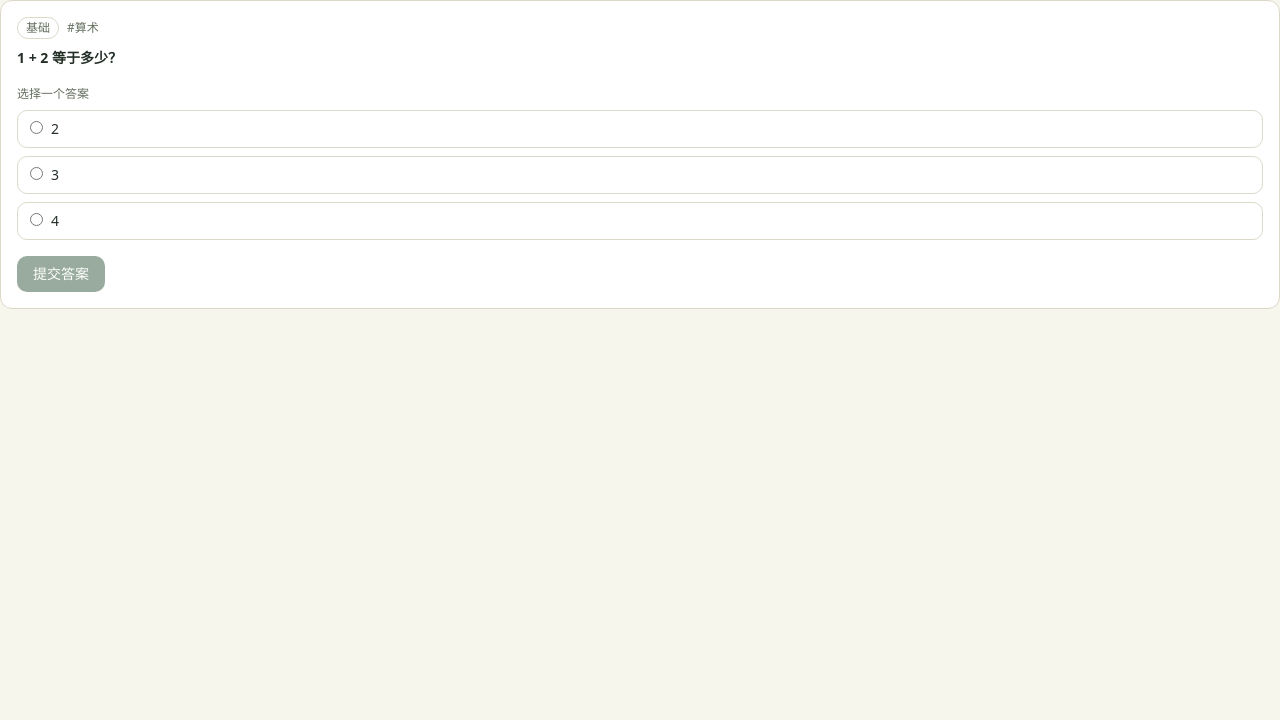
Test: ExerciseAssessment › renders strict single-choice remediation after an incorrect result
Click the radio button labelled "3" at (36, 173), box [30,167,43,180]
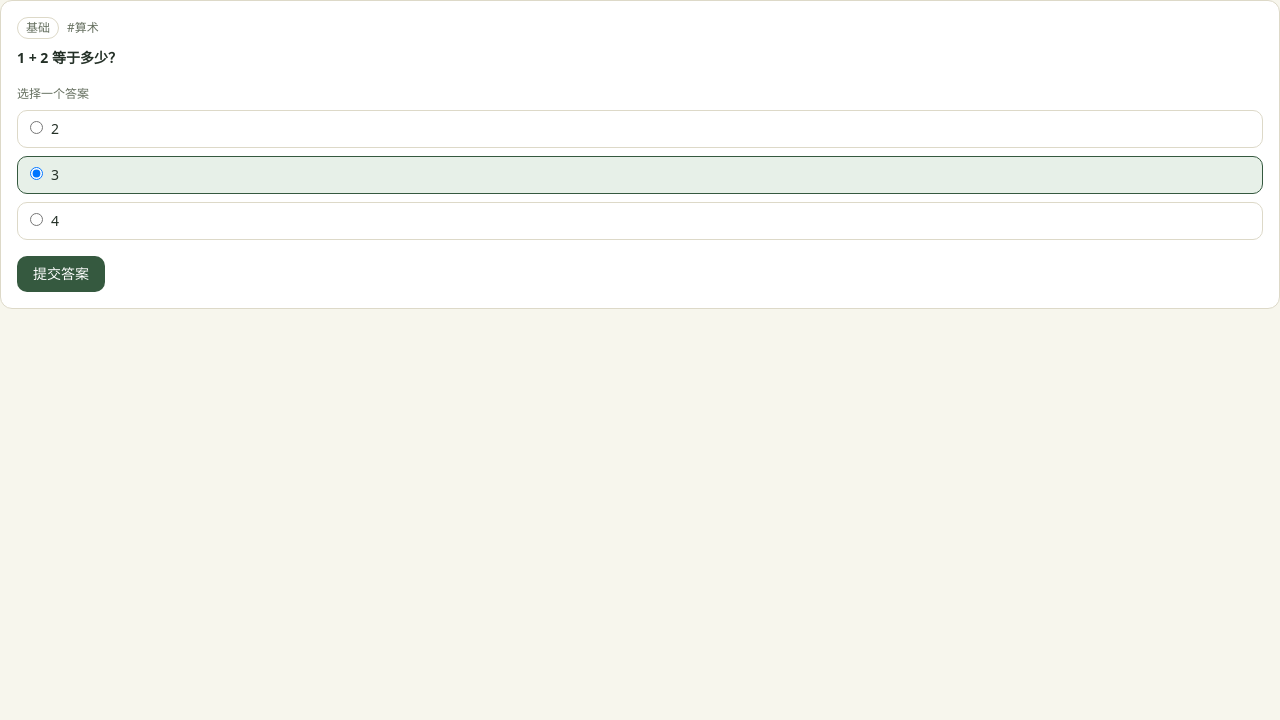
Click the button "提交答案" at (61, 274), box [17,256,105,292]
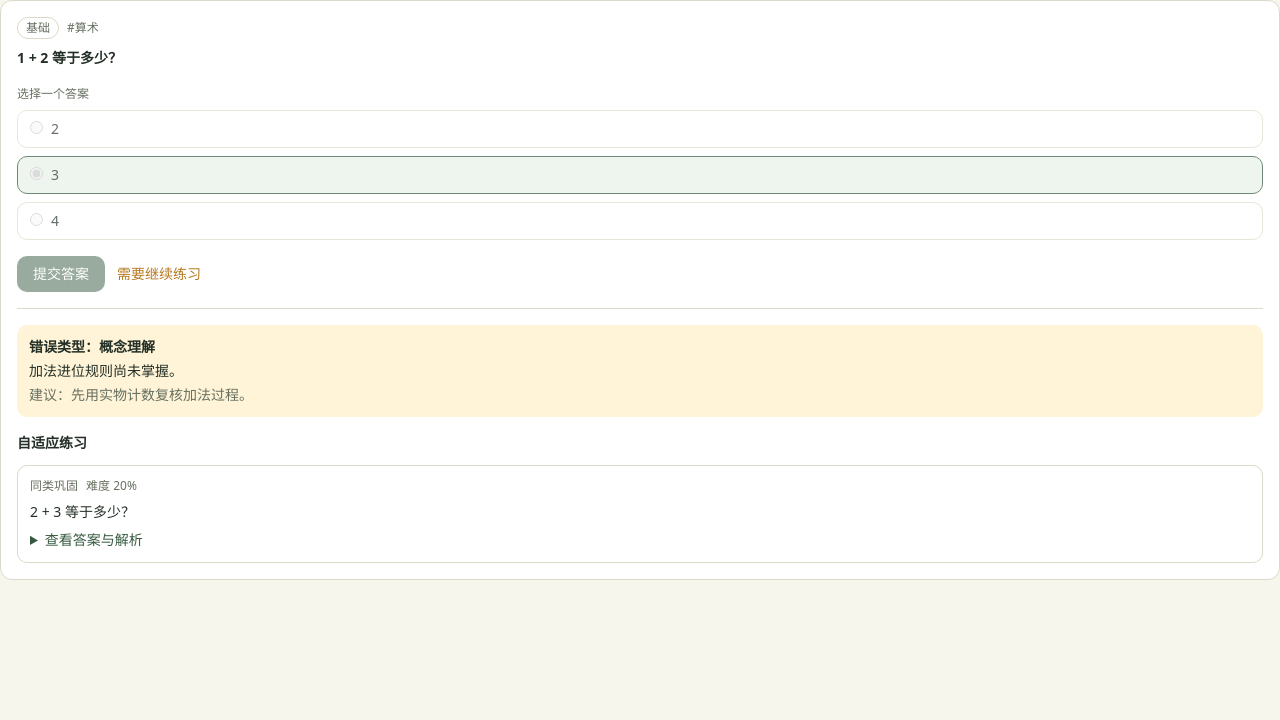
Check: the text "需要继续练习" is shown, box [117,264,201,284]
Check: the text "错误类型：概念理解" is shown, box [29,337,155,356]
Check: the text "加法进位规则尚未掌握。" is shown, box [29,361,183,380]
